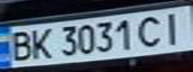0: (75, 21, 96, 55)
1: (112, 17, 139, 51)
3: (93, 19, 118, 53), (54, 23, 78, 57)
B: (3, 28, 36, 63)
C: (133, 12, 169, 47)
I: (157, 8, 190, 45)
K: (27, 26, 57, 61)
